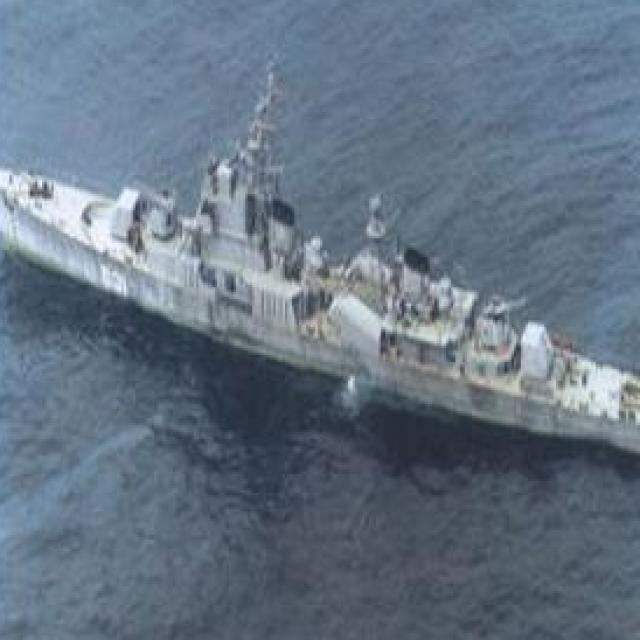navalvessels: (0, 72, 640, 474)
